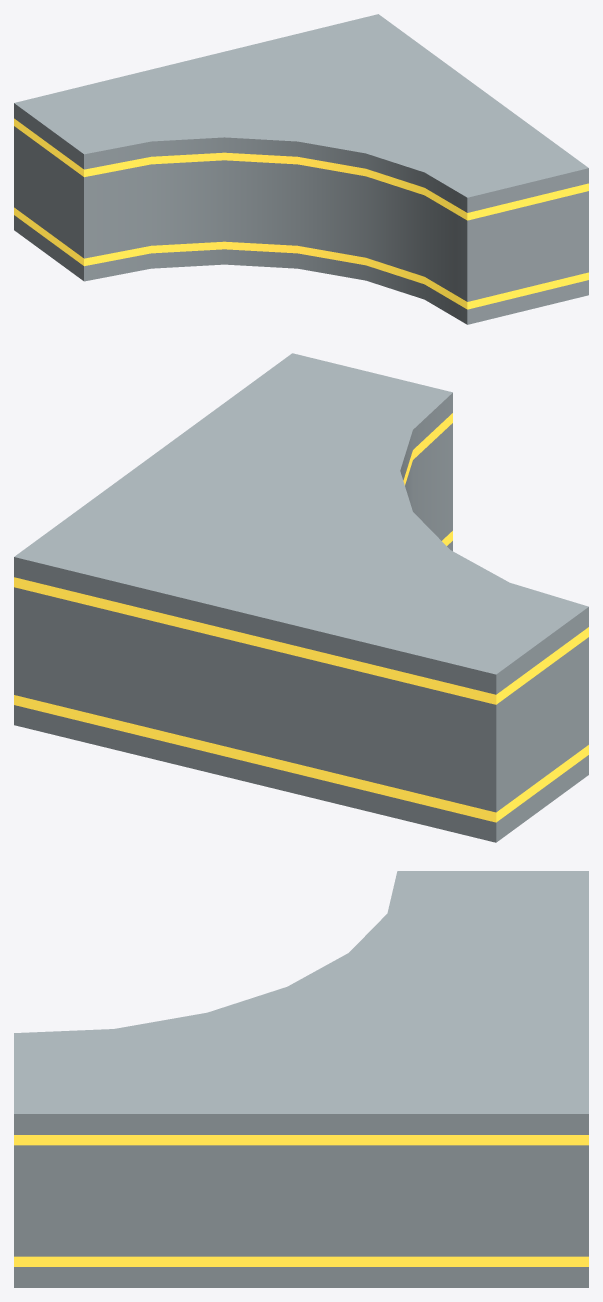
The model's file is SM_LShape_v0.fbx.
3 views of the same model, one above another, from view 1: azimuth 30°, elevation 25°; view 2: azimuth 150°, elevation 25°; view 3: azimuth 270°, elevation 25° (orthographic). The views are drawn at different scales.
Parts seen in each view (by area): view 1: SM_LShape_v0; view 2: SM_LShape_v0; view 3: SM_LShape_v0.
Part boxes in pixels (left/top/right/bottom): SM_LShape_v0: left=14, top=14, right=588, bottom=324; SM_LShape_v0: left=14, top=353, right=588, bottom=842; SM_LShape_v0: left=14, top=871, right=588, bottom=1287.
Bounding box in the file's own units: 3 × 1 × 3.
